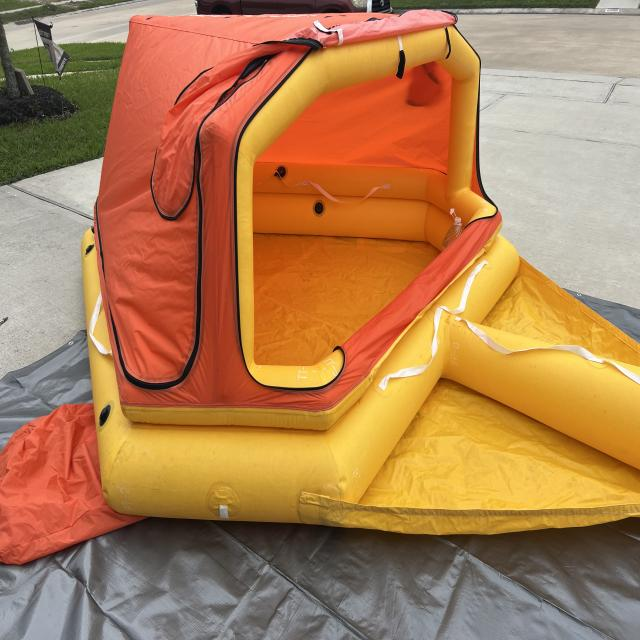Multi-person_life_raft: (1, 9, 640, 568)
